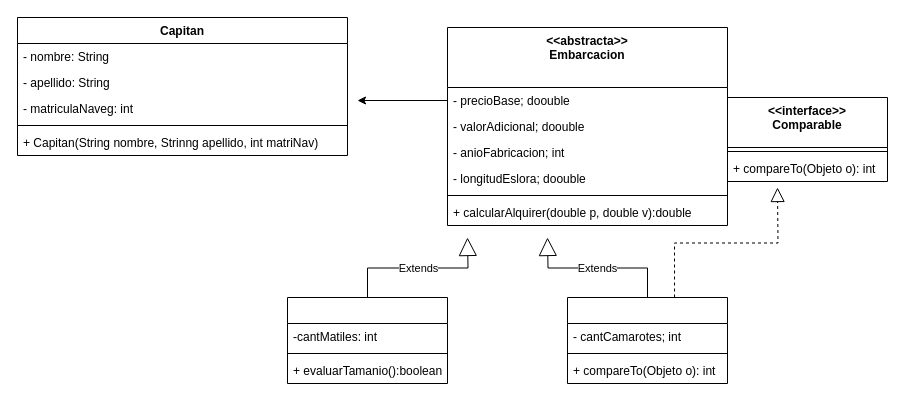
Some shapes in this 905 by 404 pixel diagram are drawn without their labels. Each missing label, with the box of its shape:
Veleros: (286, 296, 448, 384)
Yates: (566, 296, 728, 384)
